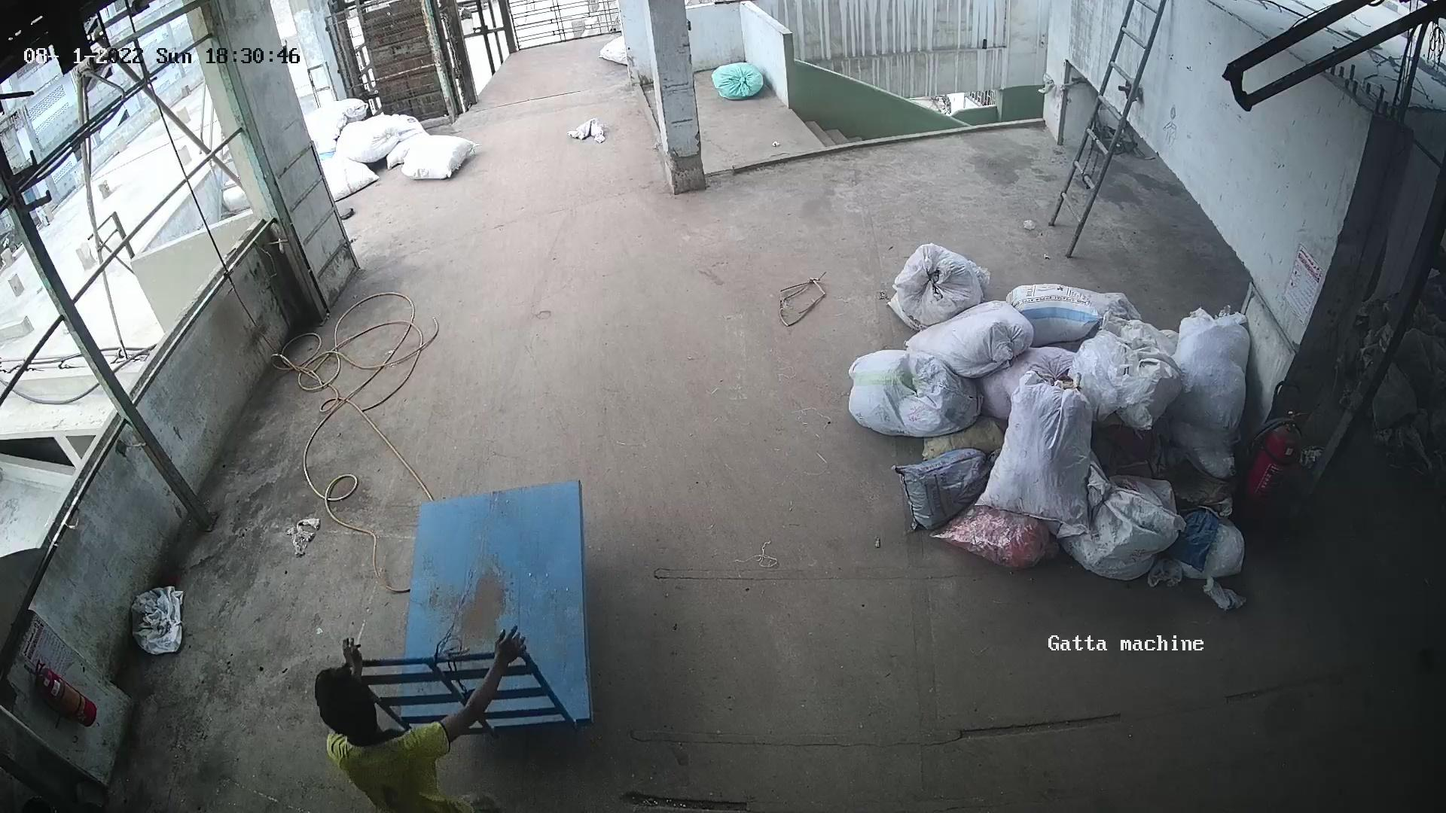person: (317, 660, 468, 813)
